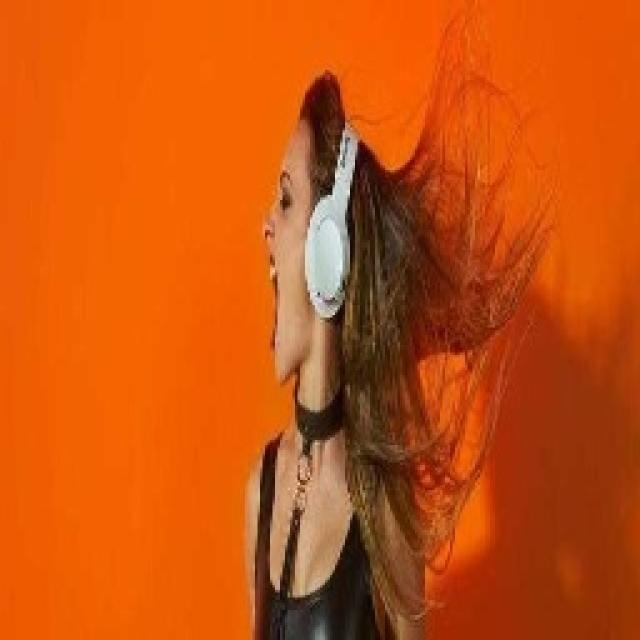headphones: (302, 120, 360, 320)
